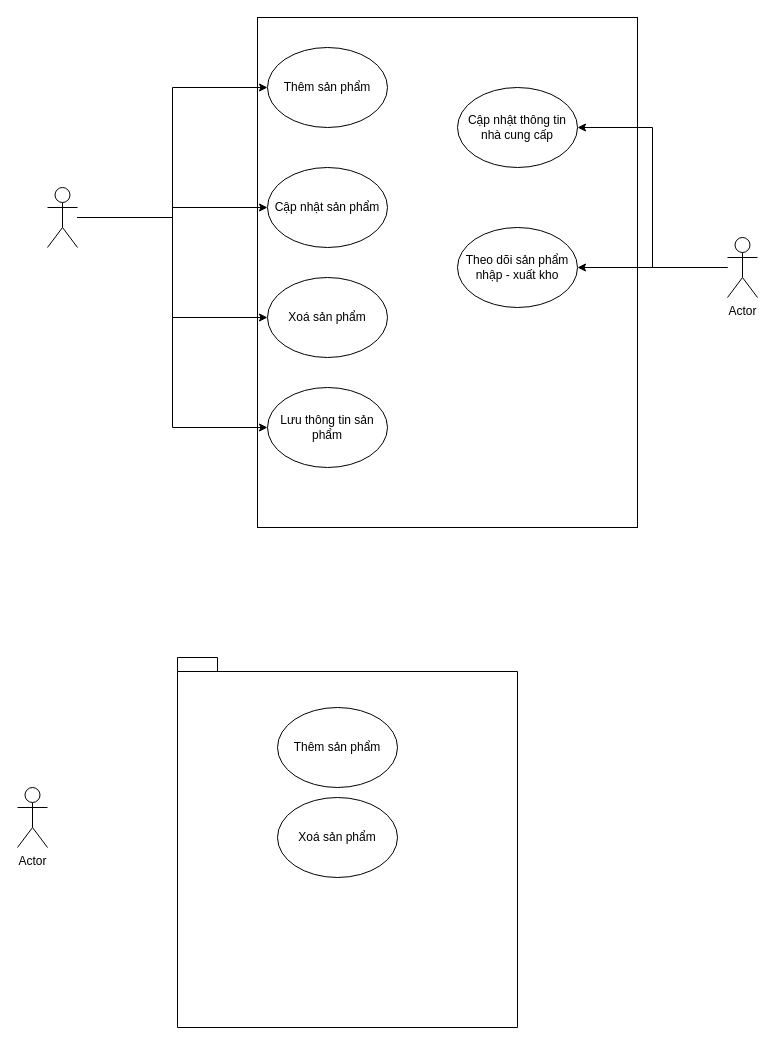
The diagram is 775 pixels wide and 1045 high, and some of its shapes have lost their labels. Here are the shapes that lost their labels. From the top down, the box of each, then its label:
(46, 186, 78, 248): Quản lý
(176, 656, 518, 1028): Product
